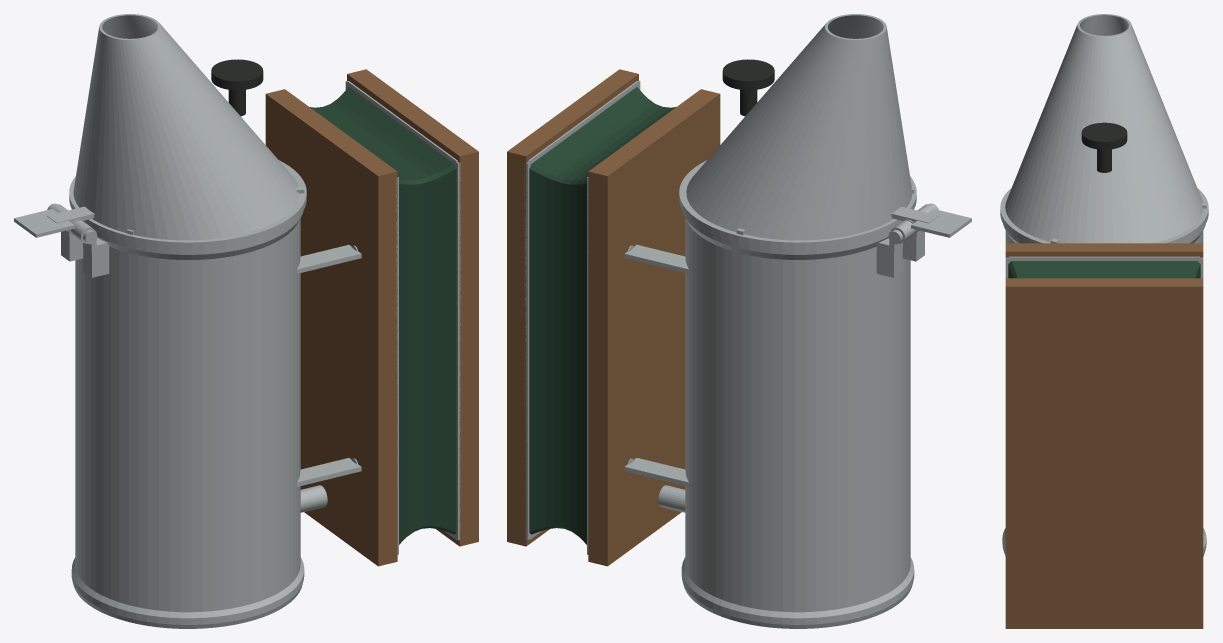
The picture shows the model from 3 angles, left to right: view 1: azimuth 30°, elevation 25°; view 2: azimuth 150°, elevation 25°; view 3: azimuth 270°, elevation 25°; orthographic projection. The views are drawn at different scales.
Visible parts, largest first — view 1: chamber_wall.001, bellows_fixed_board.001, lid_cone.001, flexible_bellows_skin.001, bellows_rear_board.001, bottom_rolled_seam.001, lid_seating_flange.001, mouth_rolled_rim.001, skin_vertical_clamp__0_1005___0_044_.001, handle_cap.001, bracket__0_05___0_027_.001, bracket__0_145___0_027_.001 (+4 smaller); view 2: chamber_wall.001, bellows_fixed_board.001, lid_cone.001, flexible_bellows_skin.001, bellows_rear_board.001, bottom_rolled_seam.001, lid_seating_flange.001, mouth_rolled_rim.001, skin_vertical_clamp__0_1005__0_044_.001, handle_cap.001, bracket__0_05__0_027_.001, bracket__0_145__0_027_.001 (+4 smaller); view 3: bellows_rear_board.001, lid_cone.001, flexible_bellows_skin.001, bellows_fixed_board.001, lid_seating_flange.001, handle_cap.001, skin_horizontal_clamp__0_0715__0_182_.001, handle_stem.001.
Part boxes in pixels (left/top/right/bottom): chamber_wall.001: left=75, top=218, right=300, bottom=612; bellows_fixed_board.001: left=265, top=89, right=397, bottom=566; lid_cone.001: left=73, top=14, right=299, bottom=240; flexible_bellows_skin.001: left=310, top=87, right=456, bottom=544; bellows_rear_board.001: left=347, top=69, right=478, bottom=546; bottom_rolled_seam.001: left=71, top=557, right=304, bottom=628; lid_seating_flange.001: left=69, top=160, right=306, bottom=249; mouth_rolled_rim.001: left=95, top=211, right=303, bottom=259; skin_vertical_clamp__0_1005___0_044_.001: left=456, top=161, right=461, bottom=540; handle_cap.001: left=211, top=59, right=263, bottom=90; bracket__0_05___0_027_.001: left=297, top=458, right=361, bottom=486; bracket__0_145___0_027_.001: left=297, top=244, right=361, bottom=273; chamber_wall.001: left=685, top=218, right=910, bottom=612; bellows_fixed_board.001: left=588, top=89, right=720, bottom=566; lid_cone.001: left=686, top=14, right=912, bottom=240; flexible_bellows_skin.001: left=529, top=87, right=675, bottom=544; bellows_rear_board.001: left=507, top=69, right=638, bottom=546; bottom_rolled_seam.001: left=681, top=557, right=914, bottom=628; lid_seating_flange.001: left=679, top=160, right=916, bottom=249; mouth_rolled_rim.001: left=682, top=211, right=890, bottom=259; skin_vertical_clamp__0_1005__0_044_.001: left=524, top=161, right=531, bottom=540; handle_cap.001: left=722, top=59, right=774, bottom=90; bracket__0_05__0_027_.001: left=624, top=458, right=688, bottom=486; bracket__0_145__0_027_.001: left=624, top=244, right=688, bottom=273; bellows_rear_board.001: left=1005, top=278, right=1203, bottom=628; lid_cone.001: left=1005, top=14, right=1203, bottom=243; flexible_bellows_skin.001: left=1008, top=261, right=1200, bottom=278; bellows_fixed_board.001: left=1005, top=243, right=1203, bottom=257; lid_seating_flange.001: left=1000, top=188, right=1208, bottom=243; handle_cap.001: left=1081, top=122, right=1127, bottom=149; skin_horizontal_clamp__0_0715__0_182_.001: left=1009, top=256, right=1199, bottom=262; handle_stem.001: left=1097, top=149, right=1111, bottom=172.
Size of the model in its own units: 0.1855 by 0.253 by 0.096.
